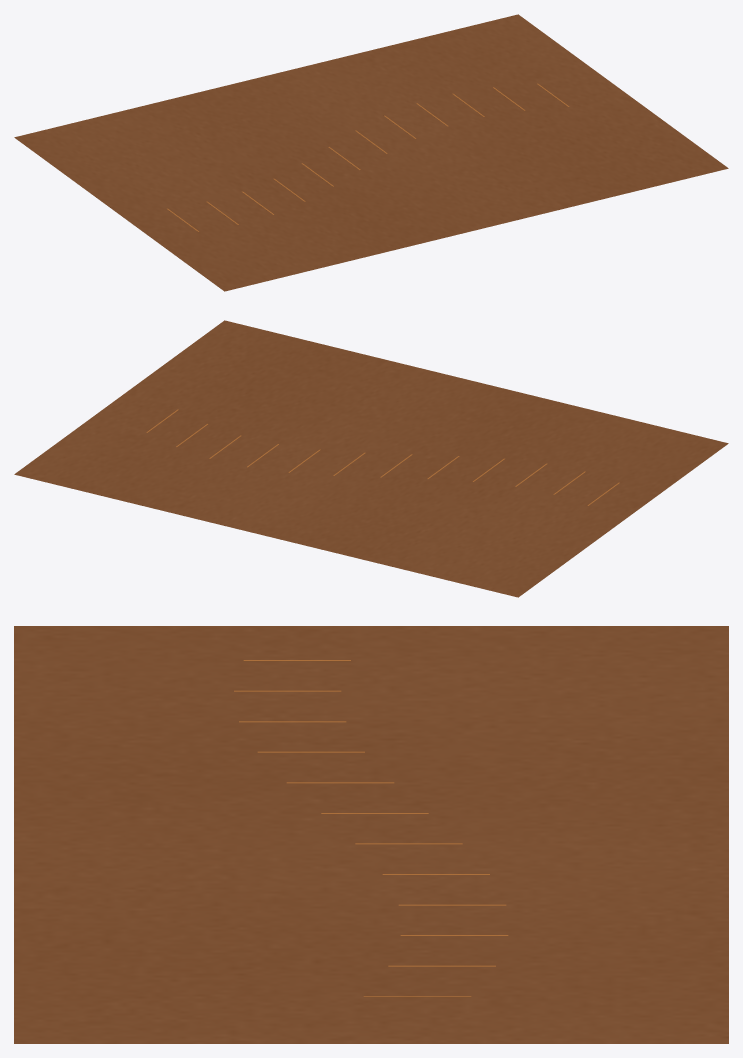
Rendered from 286_L120_L21_LayerReference.obj.
The picture shows the model from 3 angles, top to bottom: view 1: azimuth 30°, elevation 25°; view 2: azimuth 150°, elevation 25°; view 3: azimuth 270°, elevation 25°; orthographic projection. The views are drawn at different scales.
Parts seen in each view (by area): view 1: 286_L120_L21_LayerReference; view 2: 286_L120_L21_LayerReference; view 3: 286_L120_L21_LayerReference.
Part boxes in pixels (left/top/right/bottom): 286_L120_L21_LayerReference: left=14, top=14, right=728, bottom=291; 286_L120_L21_LayerReference: left=14, top=320, right=728, bottom=597; 286_L120_L21_LayerReference: left=14, top=626, right=728, bottom=1043.
Size of the model in its own units: 0.506 by 9.4e-05 by 0.366.
Materials: 2 (2 with a texture image).
